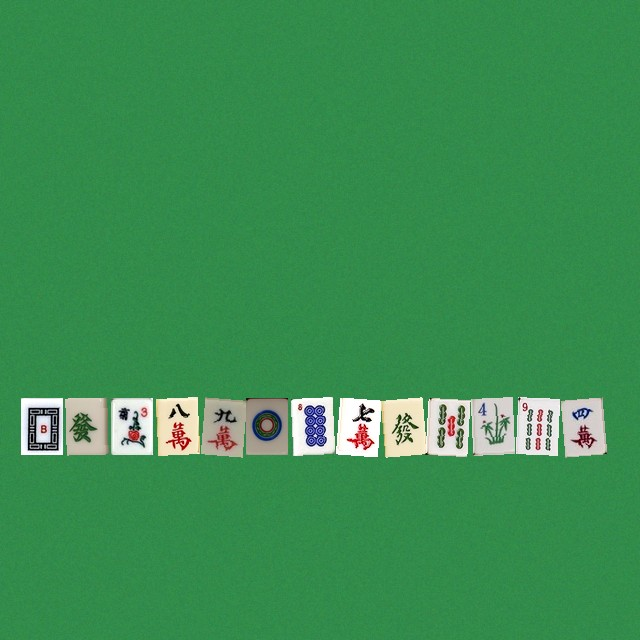tile: (20, 397, 62, 454), (65, 397, 107, 454), (110, 397, 152, 454), (155, 397, 197, 454), (200, 397, 242, 454), (245, 397, 287, 454), (290, 397, 332, 454), (335, 397, 377, 454), (380, 397, 422, 454), (425, 397, 467, 454), (470, 397, 512, 454), (515, 397, 557, 454), (560, 397, 602, 454)
